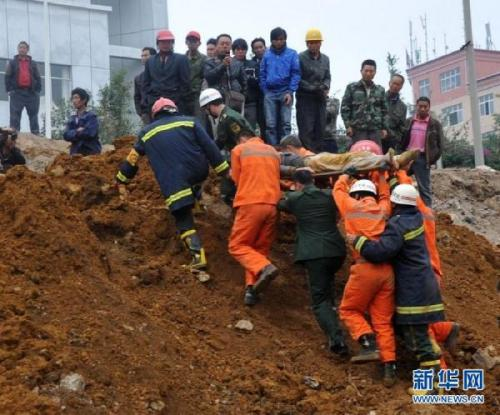boots: (350, 332, 381, 362), (252, 263, 279, 292), (446, 322, 460, 353), (382, 361, 398, 387), (329, 341, 349, 357), (243, 284, 259, 304)
gloves: (114, 169, 129, 185)
hard-hat: (389, 184, 418, 206), (151, 97, 178, 117), (198, 88, 223, 108), (349, 178, 378, 195)
person: (113, 96, 232, 282), (349, 184, 446, 371), (331, 163, 399, 387), (276, 167, 349, 357), (227, 121, 282, 304), (197, 88, 252, 205)
ppe-suit: (113, 98, 230, 281), (333, 194, 392, 340), (381, 210, 439, 357), (226, 135, 282, 287)
